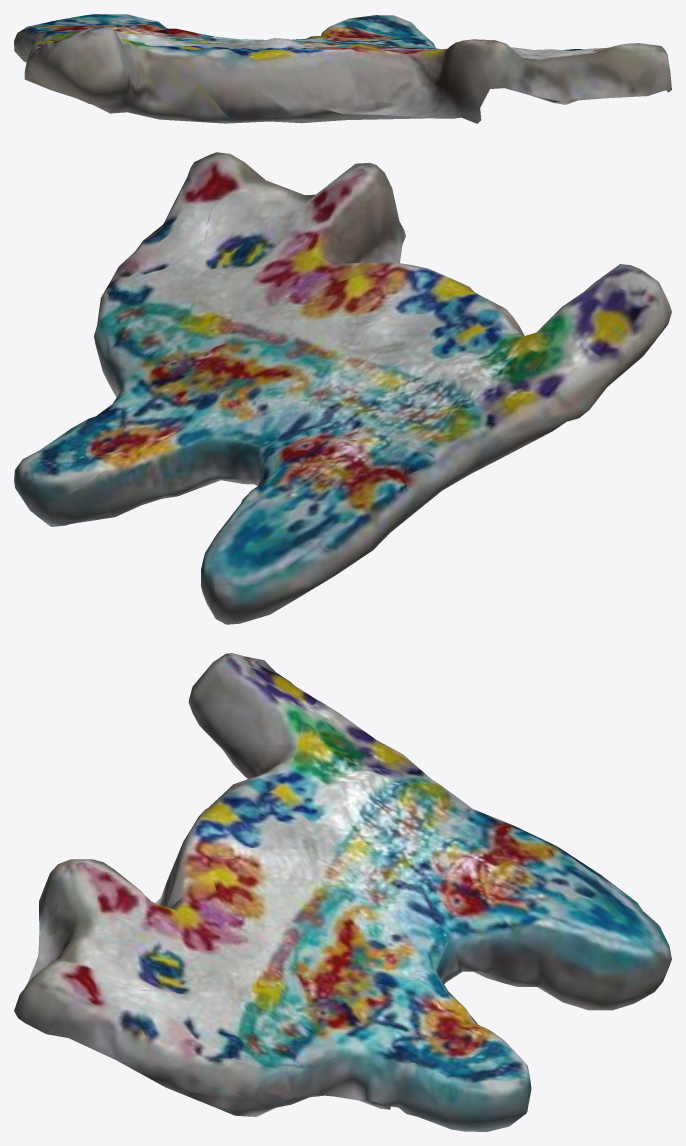
The model's file is hall.glb.
3 renders of one model, top to bottom at view 1: azimuth 30°, elevation 25°; view 2: azimuth 150°, elevation 25°; view 3: azimuth 270°, elevation 25°, orthographic. The views are drawn at different scales.
Size of the model in its own units: 0.4737 by 0.203 by 0.4708.
1 material, 1 textured.
